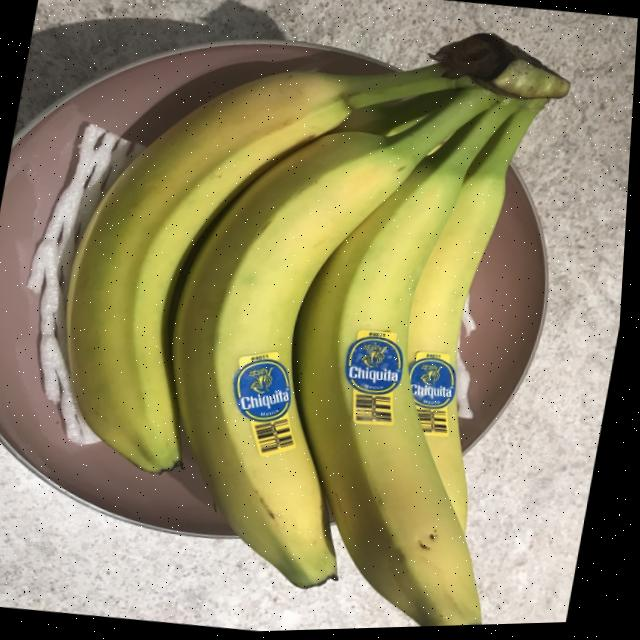Banana: (69, 66, 472, 474), (176, 91, 496, 590), (297, 107, 520, 629), (411, 106, 542, 533)
